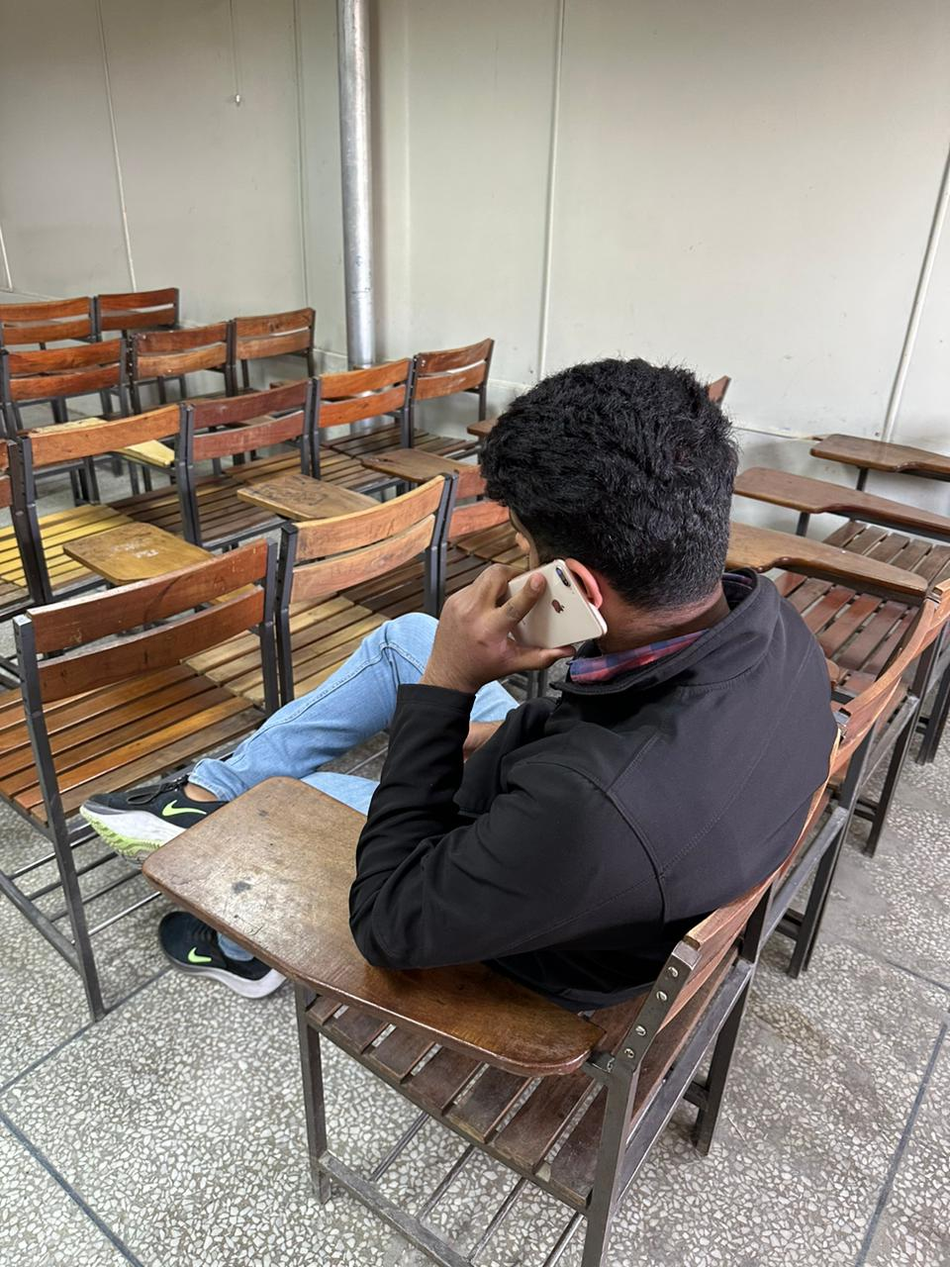phone: (451, 554, 610, 685)
